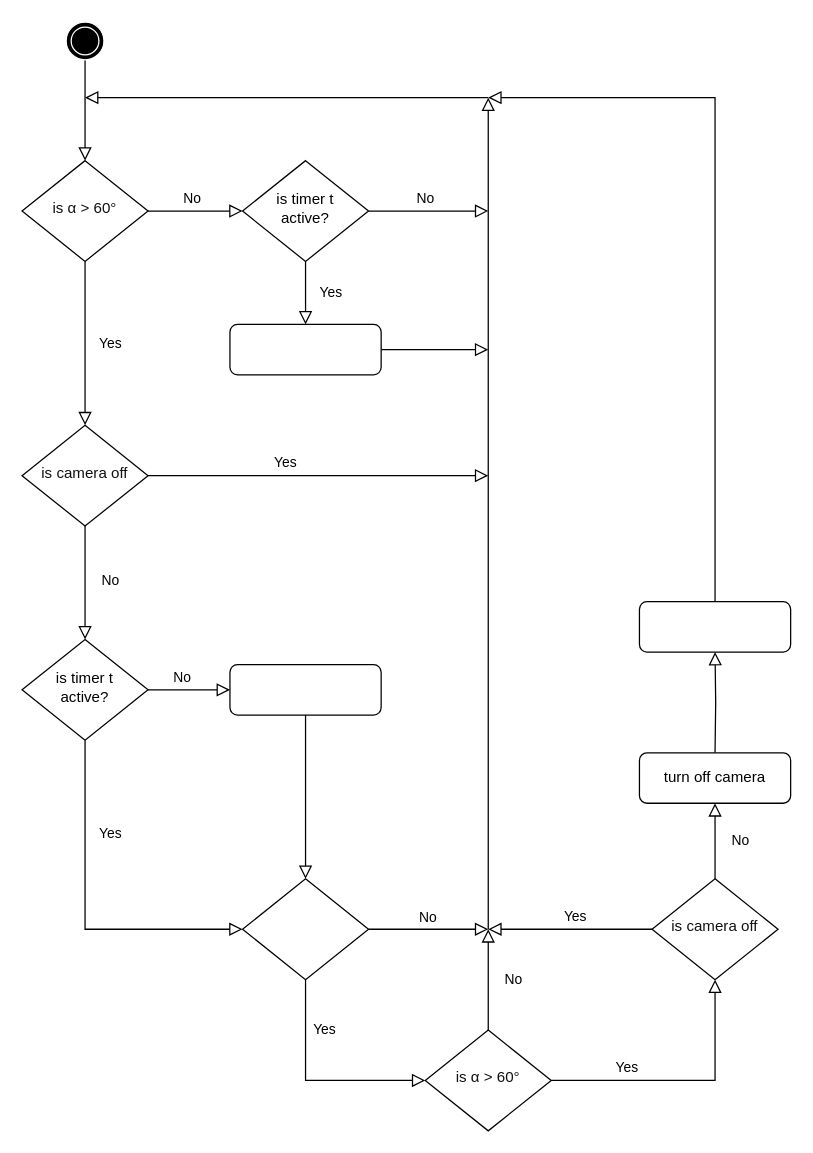
This 813x1153 diagram has some shape labels left out. Each missing label, with the centre of its shape:
is t == 0: (305,929)
send text event: (714,626)
start countdown timer t: (305,689)
turn off timer: (305,349)
